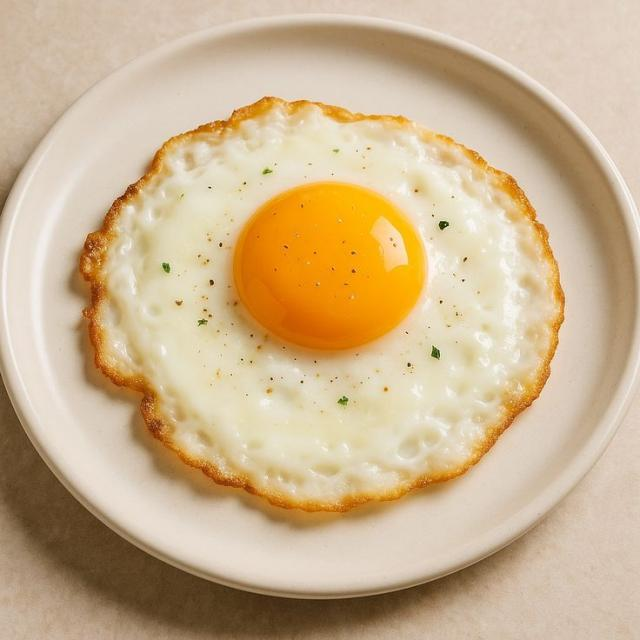fryed egg: (81, 99, 563, 510)
